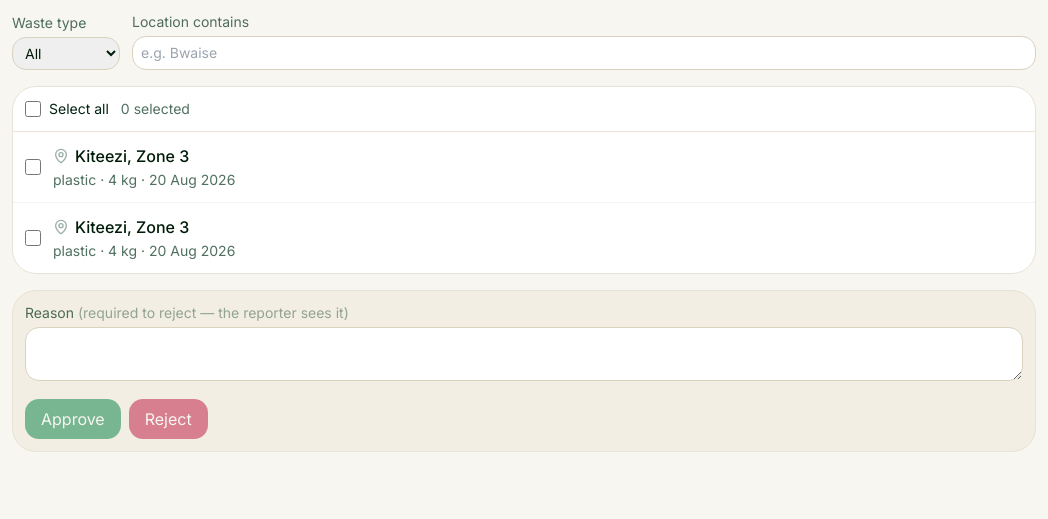
Scenario: SupervisorInboxView › after a review › says so when fewer changed than were selected
What coordinates should you click on to do the following:
click the checkbox labelled "Select all"
I would click on:
 (33, 109)
Its box is [25,101,41,117].
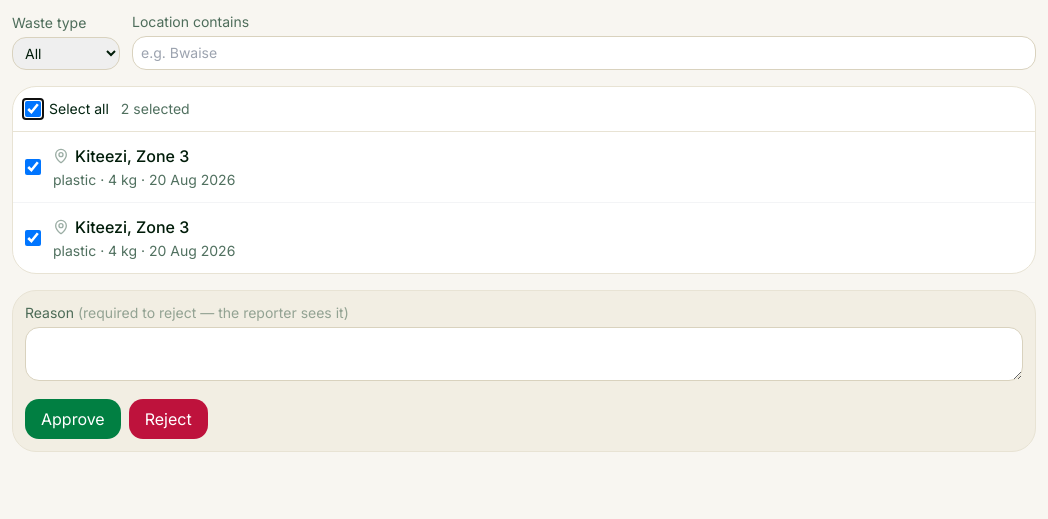
What coordinates should you click on to do the following:
click the button "Approve"
I would click on:
 (73, 419)
Its box is [25,399,121,439].
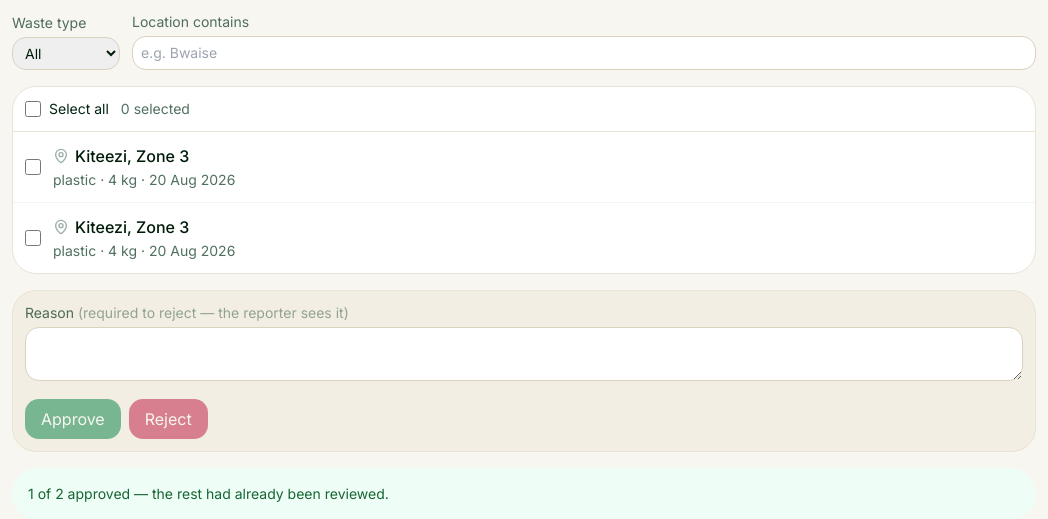
Result: the message reads "1 of 2 approved — the rest had already been reviewed." at [28,485,389,502]
